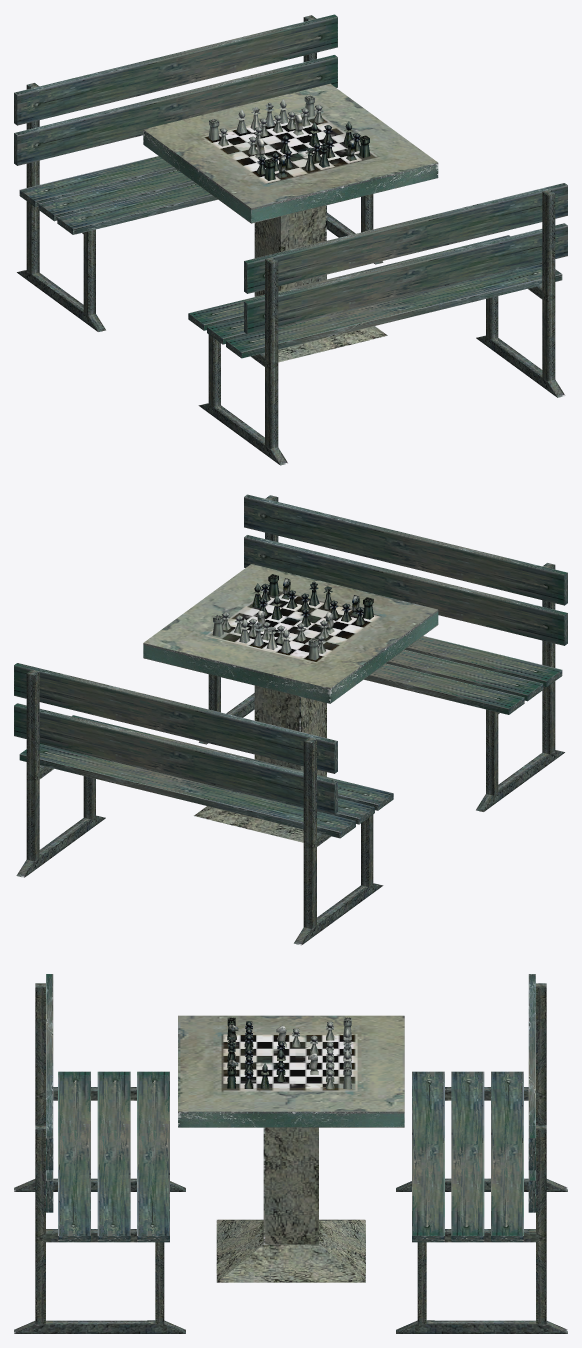
Rendered from chessman_chess_table.fbx.
3 renders of one model, top to bottom at view 1: azimuth 30°, elevation 25°; view 2: azimuth 150°, elevation 25°; view 3: azimuth 270°, elevation 25°, orthographic. The views are drawn at different scales.
Visible parts, largest first — view 1: mesh_0; view 2: mesh_0; view 3: mesh_0.
Boxes of the visible parts, <box> form: mesh_0: <box>14,14,567,465</box>; mesh_0: <box>14,494,567,945</box>; mesh_0: <box>14,974,567,1333</box>.
Bounding box in the file's own units: 162 × 102 × 231.
Materials: 1 (1 with a texture image).
